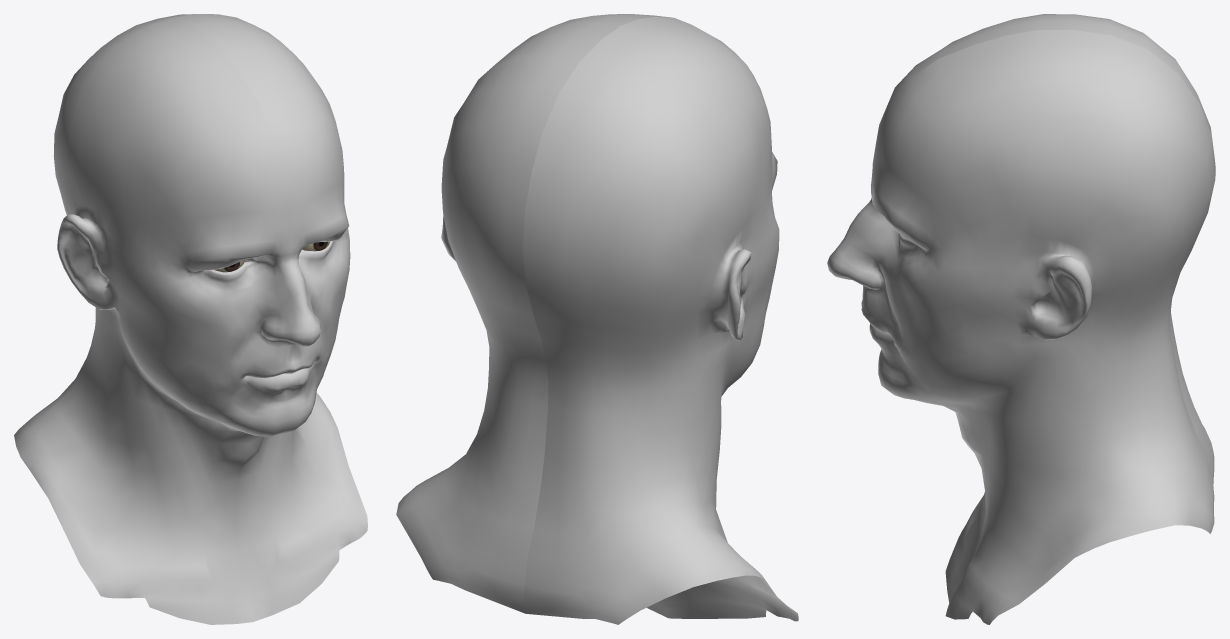
File: head_caucasian01.fbx
The picture shows the model from 3 angles, left to right: view 1: azimuth 30°, elevation 25°; view 2: azimuth 150°, elevation 25°; view 3: azimuth 270°, elevation 25°; orthographic projection. The views are drawn at different scales.
Parts seen in each view (by area): view 1: head_caucasian01; view 2: head_caucasian01; view 3: head_caucasian01.
Part boxes in pixels (left/top/right/bottom): head_caucasian01: left=14, top=14, right=367, bottom=624; head_caucasian01: left=396, top=14, right=798, bottom=624; head_caucasian01: left=827, top=14, right=1215, bottom=624.
Bounding box in the file's own units: 19.57 × 35.35 × 21.72.
